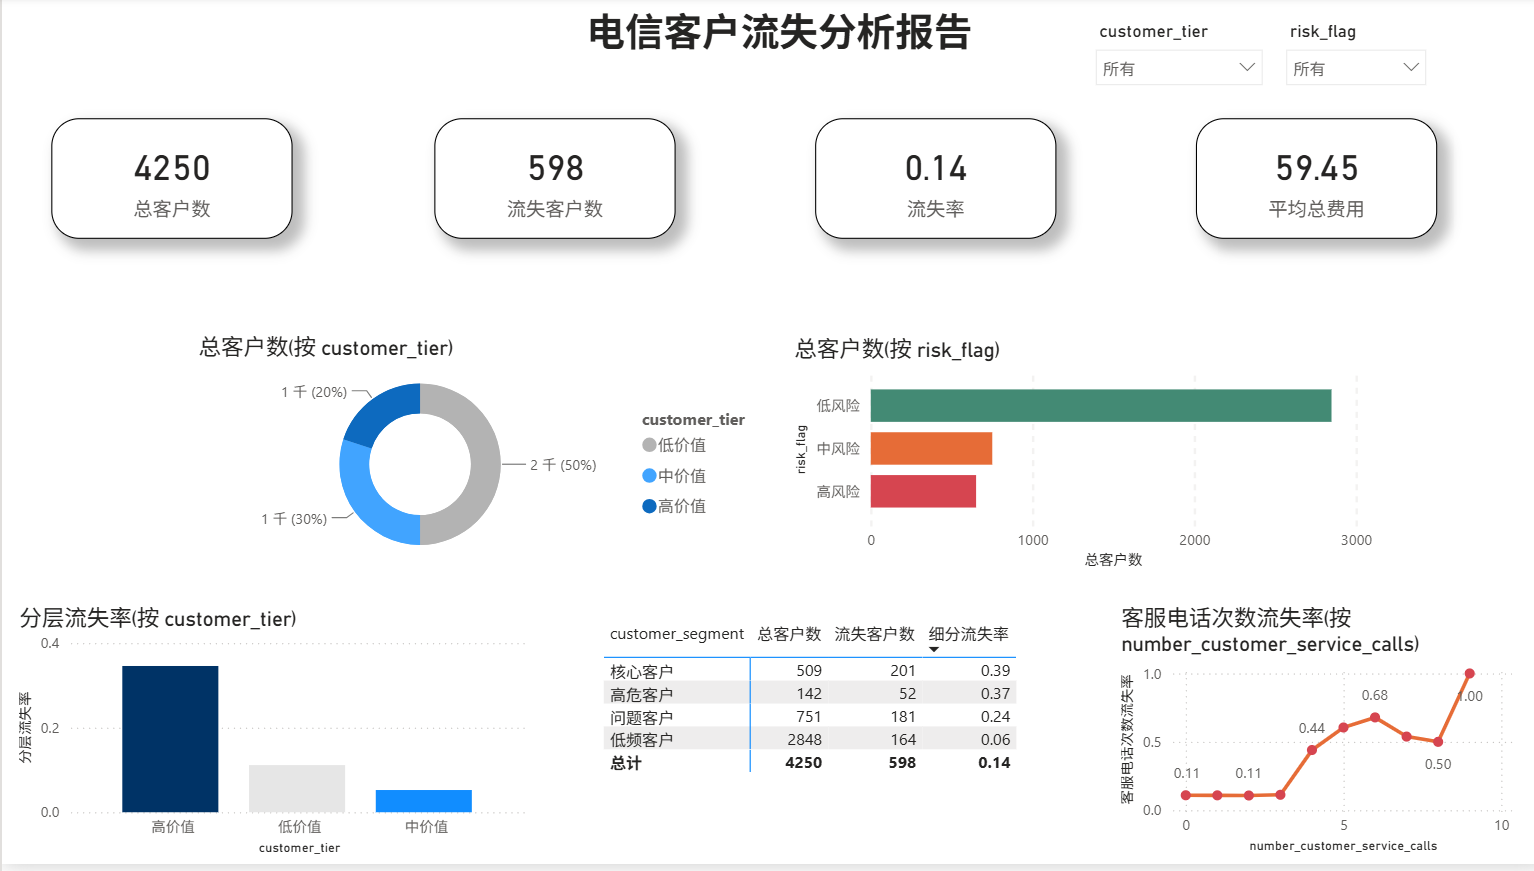

Layout of this report page (visuals, bound fields, positions):
{"tool":"powerbi","page":{"name":"第 1 页","canvas":[1280,720],"ordinal":0},"visuals":[{"type":"textbox","box":[10,0,1270,280],"z":0},{"type":"slicer","fields":{"Values":["客户.customer_tier"]},"box":[896,16,158,86],"z":1000},{"type":"slicer","fields":{"Values":["客户.risk_flag"]},"box":[1054,16,136,58],"z":2000},{"type":"card","fields":{"Values":["客户.总客户数"]},"box":[40,102,200,100],"z":3000},{"type":"card","fields":{"Values":["客户.流失客户数"]},"box":[358,102,200,100],"z":4000},{"type":"card","fields":{"Values":["客户.流失率"]},"box":[674,102,200,100],"z":5000},{"type":"card","fields":{"Values":["客户.平均总费用"]},"box":[990,102,200,100],"z":6000},{"type":"donutChart","fields":{"Y":["客户.总客户数"],"Category":["客户.customer_tier"]},"box":[157.8,275.8,479.6,203.8],"z":7000},{"type":"barChart","fields":{"Category":["客户.risk_flag"],"Y":["客户.总客户数"]},"box":[651.2,274.3,488.7,205.3],"z":8000},{"type":"clusteredColumnChart","fields":{"Category":["客户.customer_tier"],"Y":["客户.分层流失率"]},"box":[10,501.7,431.7,216.7],"z":9000},{"type":"lineChart","fields":{"Category":["客户.number_customer_service_calls"],"Y":["客户.客服电话次数流失率"]},"box":[923.3,501.7,335,215],"z":10000},{"type":"pivotTable","fields":{"Rows":["客户.customer_segment"],"Values":["客户.总客户数","客户.流失客户数","客户.细分流失率"]},"box":[493.3,501.7,363.3,176.7],"z":11000}]}

Visuals, with their boxes in screenshot pixels (x1, y1, x2, y2), scaled from the page's 1280x720 canvas onto the 1534x871 screenshot:
textbox: bbox=(12, 0, 1533, 339)
slicer - 客户.customer_tier: bbox=(1074, 19, 1263, 123)
slicer - 客户.risk_flag: bbox=(1263, 19, 1426, 90)
card - 客户.总客户数: bbox=(48, 123, 288, 244)
card - 客户.流失客户数: bbox=(429, 123, 669, 244)
card - 客户.流失率: bbox=(808, 123, 1047, 244)
card - 客户.平均总费用: bbox=(1186, 123, 1426, 244)
donutChart - 客户.总客户数 x 客户.customer_tier: bbox=(189, 334, 764, 580)
barChart - 客户.risk_flag x 客户.总客户数: bbox=(780, 332, 1366, 580)
clusteredColumnChart - 客户.customer_tier x 客户.分层流失率: bbox=(12, 607, 529, 869)
lineChart - 客户.number_customer_service_calls x 客户.客服电话次数流失率: bbox=(1107, 607, 1508, 867)
pivotTable - 客户.customer_segment x 客户.总客户数: bbox=(591, 607, 1027, 821)
